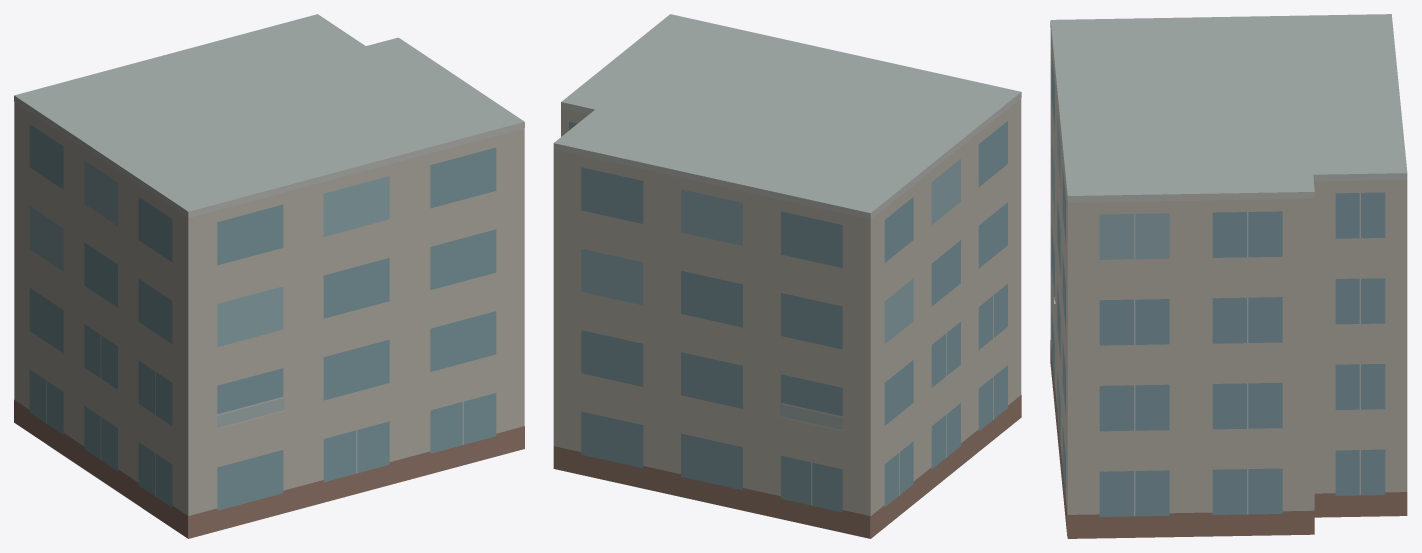
The model's file is survey-upis-32911009.glb.
3 views of the same model, side by side, from view 1: azimuth 30°, elevation 25°; view 2: azimuth 150°, elevation 25°; view 3: azimuth 270°, elevation 25° (orthographic). The views are drawn at different scales.
Parts seen in each view (by area): view 1: survey-upis-32911009.tmp; view 2: survey-upis-32911009.tmp; view 3: survey-upis-32911009.tmp.
Boxes of the visible parts, left/top/right/bottom form: survey-upis-32911009.tmp: left=14, top=14, right=524, bottom=538; survey-upis-32911009.tmp: left=553, top=14, right=1021, bottom=538; survey-upis-32911009.tmp: left=1050, top=14, right=1407, bottom=538.
Bounding box in the file's own units: 14.25 × 12.5 × 11.8.
